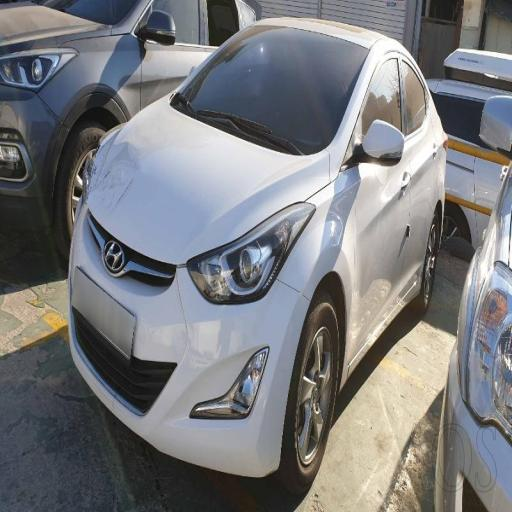dent: (77, 117, 152, 250)
